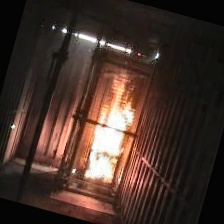fire: (74, 91, 143, 188)
